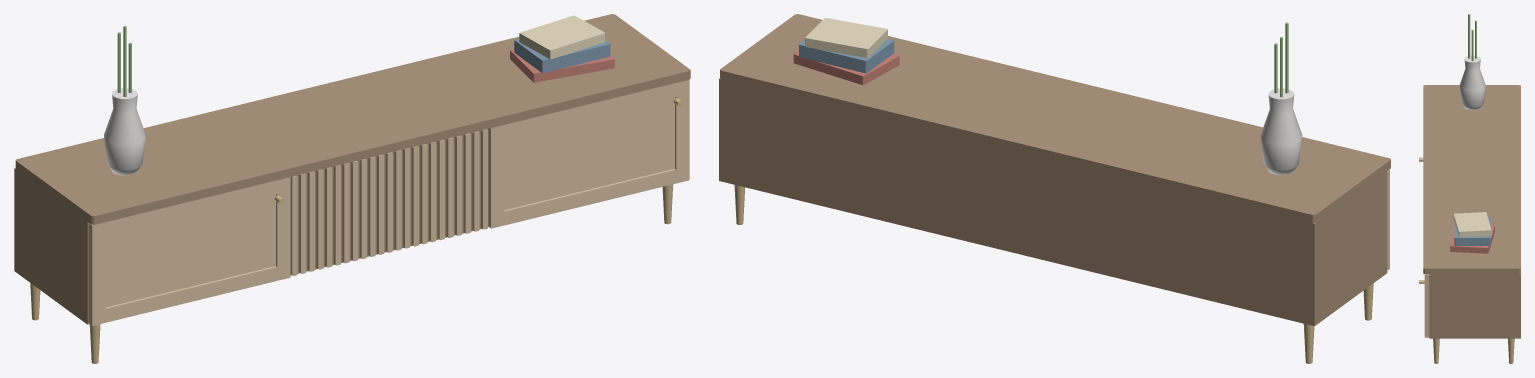
The picture shows the model from 3 angles, left to right: view 1: azimuth 30°, elevation 25°; view 2: azimuth 150°, elevation 25°; view 3: azimuth 270°, elevation 25°; orthographic projection. The views are drawn at different scales.
Parts seen in each view (by area): view 1: Kệ tivi Dài=1800; Sâu=400; view 2: Kệ tivi Dài=1800; Sâu=400; view 3: Kệ tivi Dài=1800; Sâu=400.
Boxes of the visible parts, x1,y1,x2,y2 form: Kệ tivi Dài=1800; Sâu=400: (14,14,690,363); Kệ tivi Dài=1800; Sâu=400: (719,14,1390,363); Kệ tivi Dài=1800; Sâu=400: (1419,14,1520,363).
Size of the model in its own units: 1.8 by 0.87 by 0.422.
